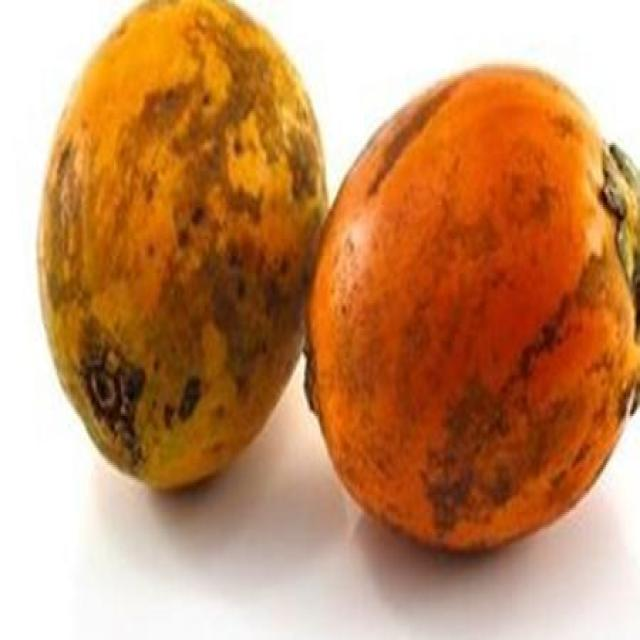good: (304, 68, 639, 555), (37, 0, 331, 497)
